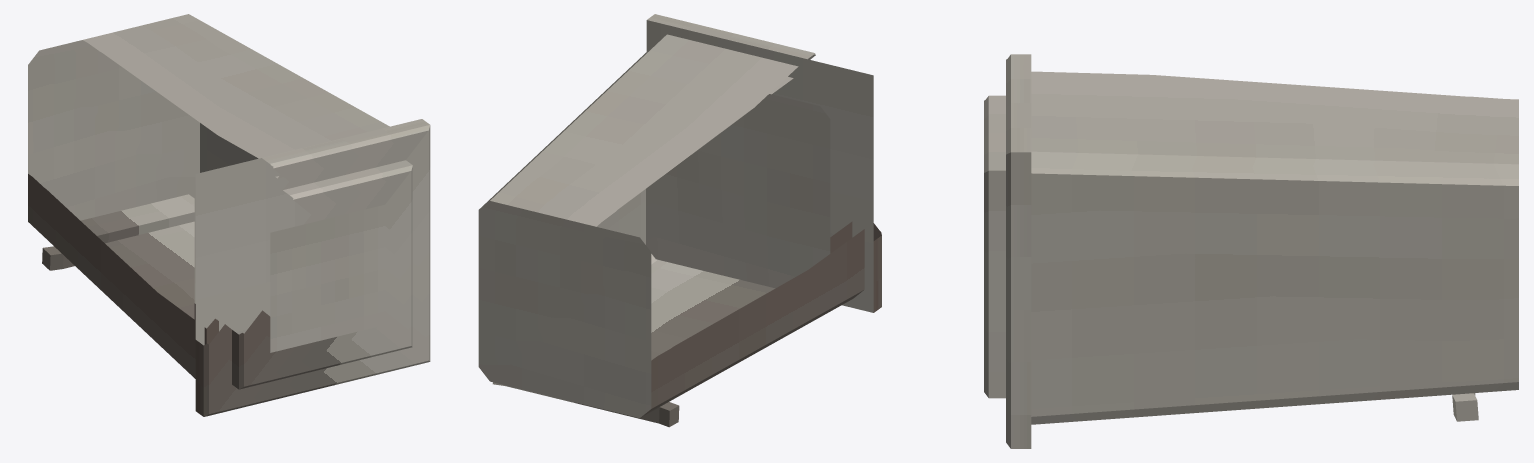
3 renders of one model, left to right at view 1: azimuth 30°, elevation 25°; view 2: azimuth 150°, elevation 25°; view 3: azimuth 270°, elevation 25°, orthographic. The views are drawn at different scales.
Size of the model in its own units: 0.5225 by 0.5756 by 0.9611.
